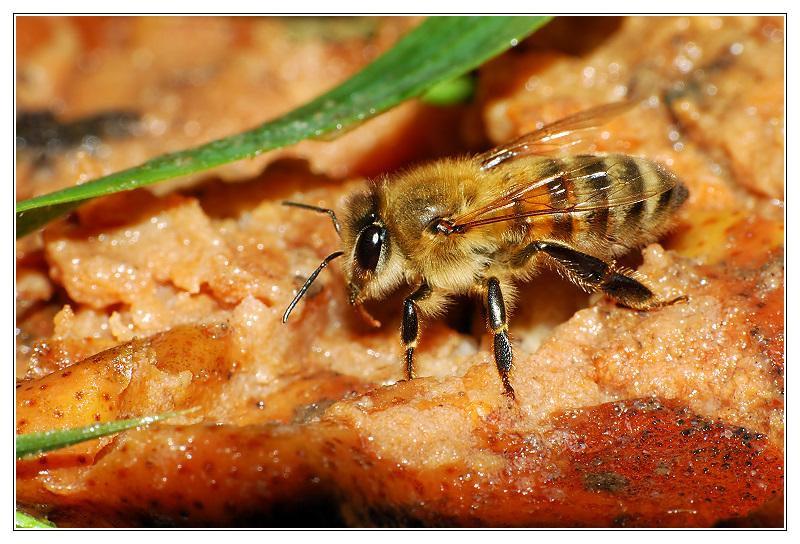worker-bee: (291, 103, 687, 395)
